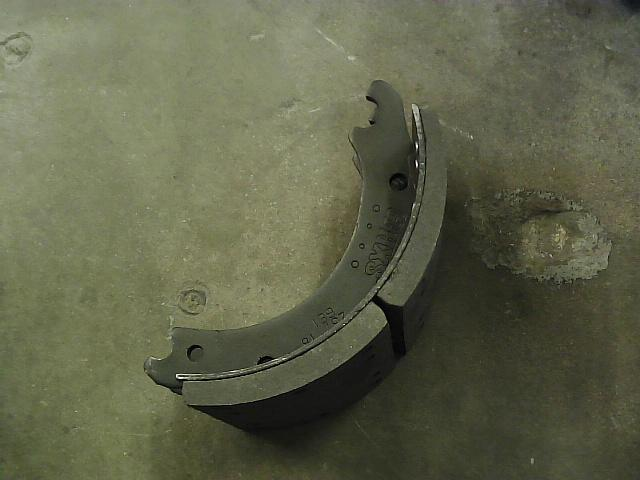brake-shoes: (142, 77, 450, 438)
